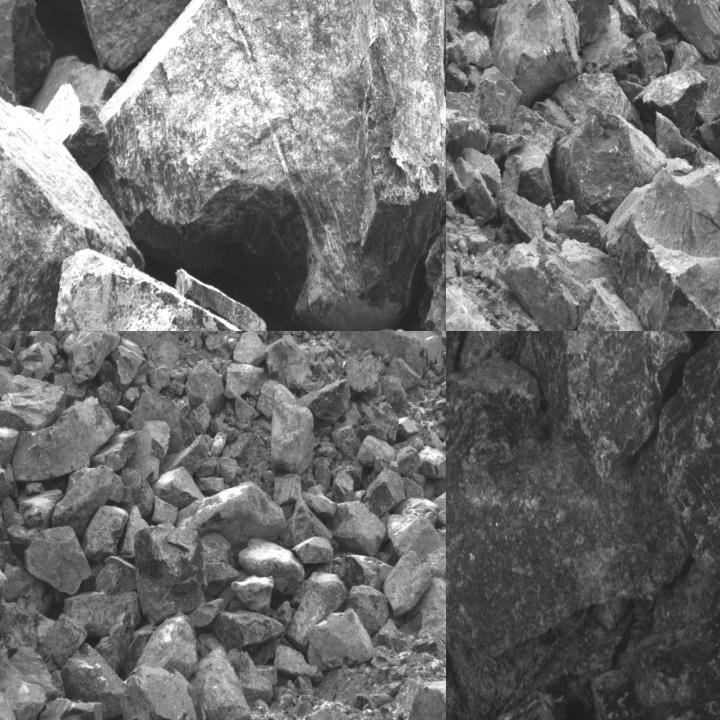stone: (90, 0, 445, 330), (446, 353, 685, 658), (0, 82, 147, 330), (636, 331, 719, 668), (518, 331, 690, 457), (602, 167, 719, 330), (589, 603, 719, 719), (490, 0, 612, 109), (554, 107, 668, 223), (66, 0, 228, 70), (14, 397, 121, 484), (500, 236, 591, 330), (132, 523, 206, 623), (178, 483, 284, 548), (29, 302, 272, 330), (319, 331, 442, 376), (632, 69, 708, 138), (551, 73, 643, 130), (50, 467, 124, 535), (61, 644, 126, 719), (22, 526, 92, 594), (119, 665, 207, 719), (191, 648, 254, 719), (573, 279, 658, 330), (669, 41, 719, 124), (236, 535, 306, 594), (0, 374, 68, 433), (582, 4, 637, 74), (64, 589, 142, 638), (658, 0, 719, 62), (309, 609, 373, 667), (140, 617, 198, 676), (446, 695, 586, 719), (473, 66, 522, 134), (384, 548, 430, 620), (270, 402, 315, 475), (61, 331, 122, 384), (214, 608, 285, 652), (388, 510, 445, 563), (264, 334, 316, 391), (332, 502, 386, 556), (299, 378, 351, 432), (283, 498, 337, 550), (127, 420, 172, 481), (455, 158, 496, 224), (82, 505, 129, 562), (200, 532, 240, 598), (96, 610, 135, 674), (407, 579, 445, 644), (284, 593, 322, 657), (186, 359, 226, 415), (348, 585, 390, 638), (297, 569, 346, 614), (362, 468, 406, 518), (46, 614, 87, 667), (93, 430, 141, 474), (655, 111, 698, 158), (0, 602, 38, 655), (156, 468, 204, 509), (462, 148, 501, 197), (231, 576, 273, 618), (485, 131, 528, 172), (19, 490, 64, 529), (346, 352, 385, 397), (635, 31, 668, 81), (405, 678, 445, 719), (95, 556, 138, 594), (695, 98, 719, 162), (226, 362, 266, 400), (423, 545, 445, 612), (344, 557, 391, 588), (121, 472, 153, 517), (612, 0, 649, 38), (34, 700, 107, 719), (615, 72, 657, 103), (233, 331, 268, 366), (360, 439, 396, 469), (295, 537, 333, 565), (501, 155, 522, 195), (446, 62, 469, 94), (666, 158, 693, 175), (657, 32, 678, 51)
